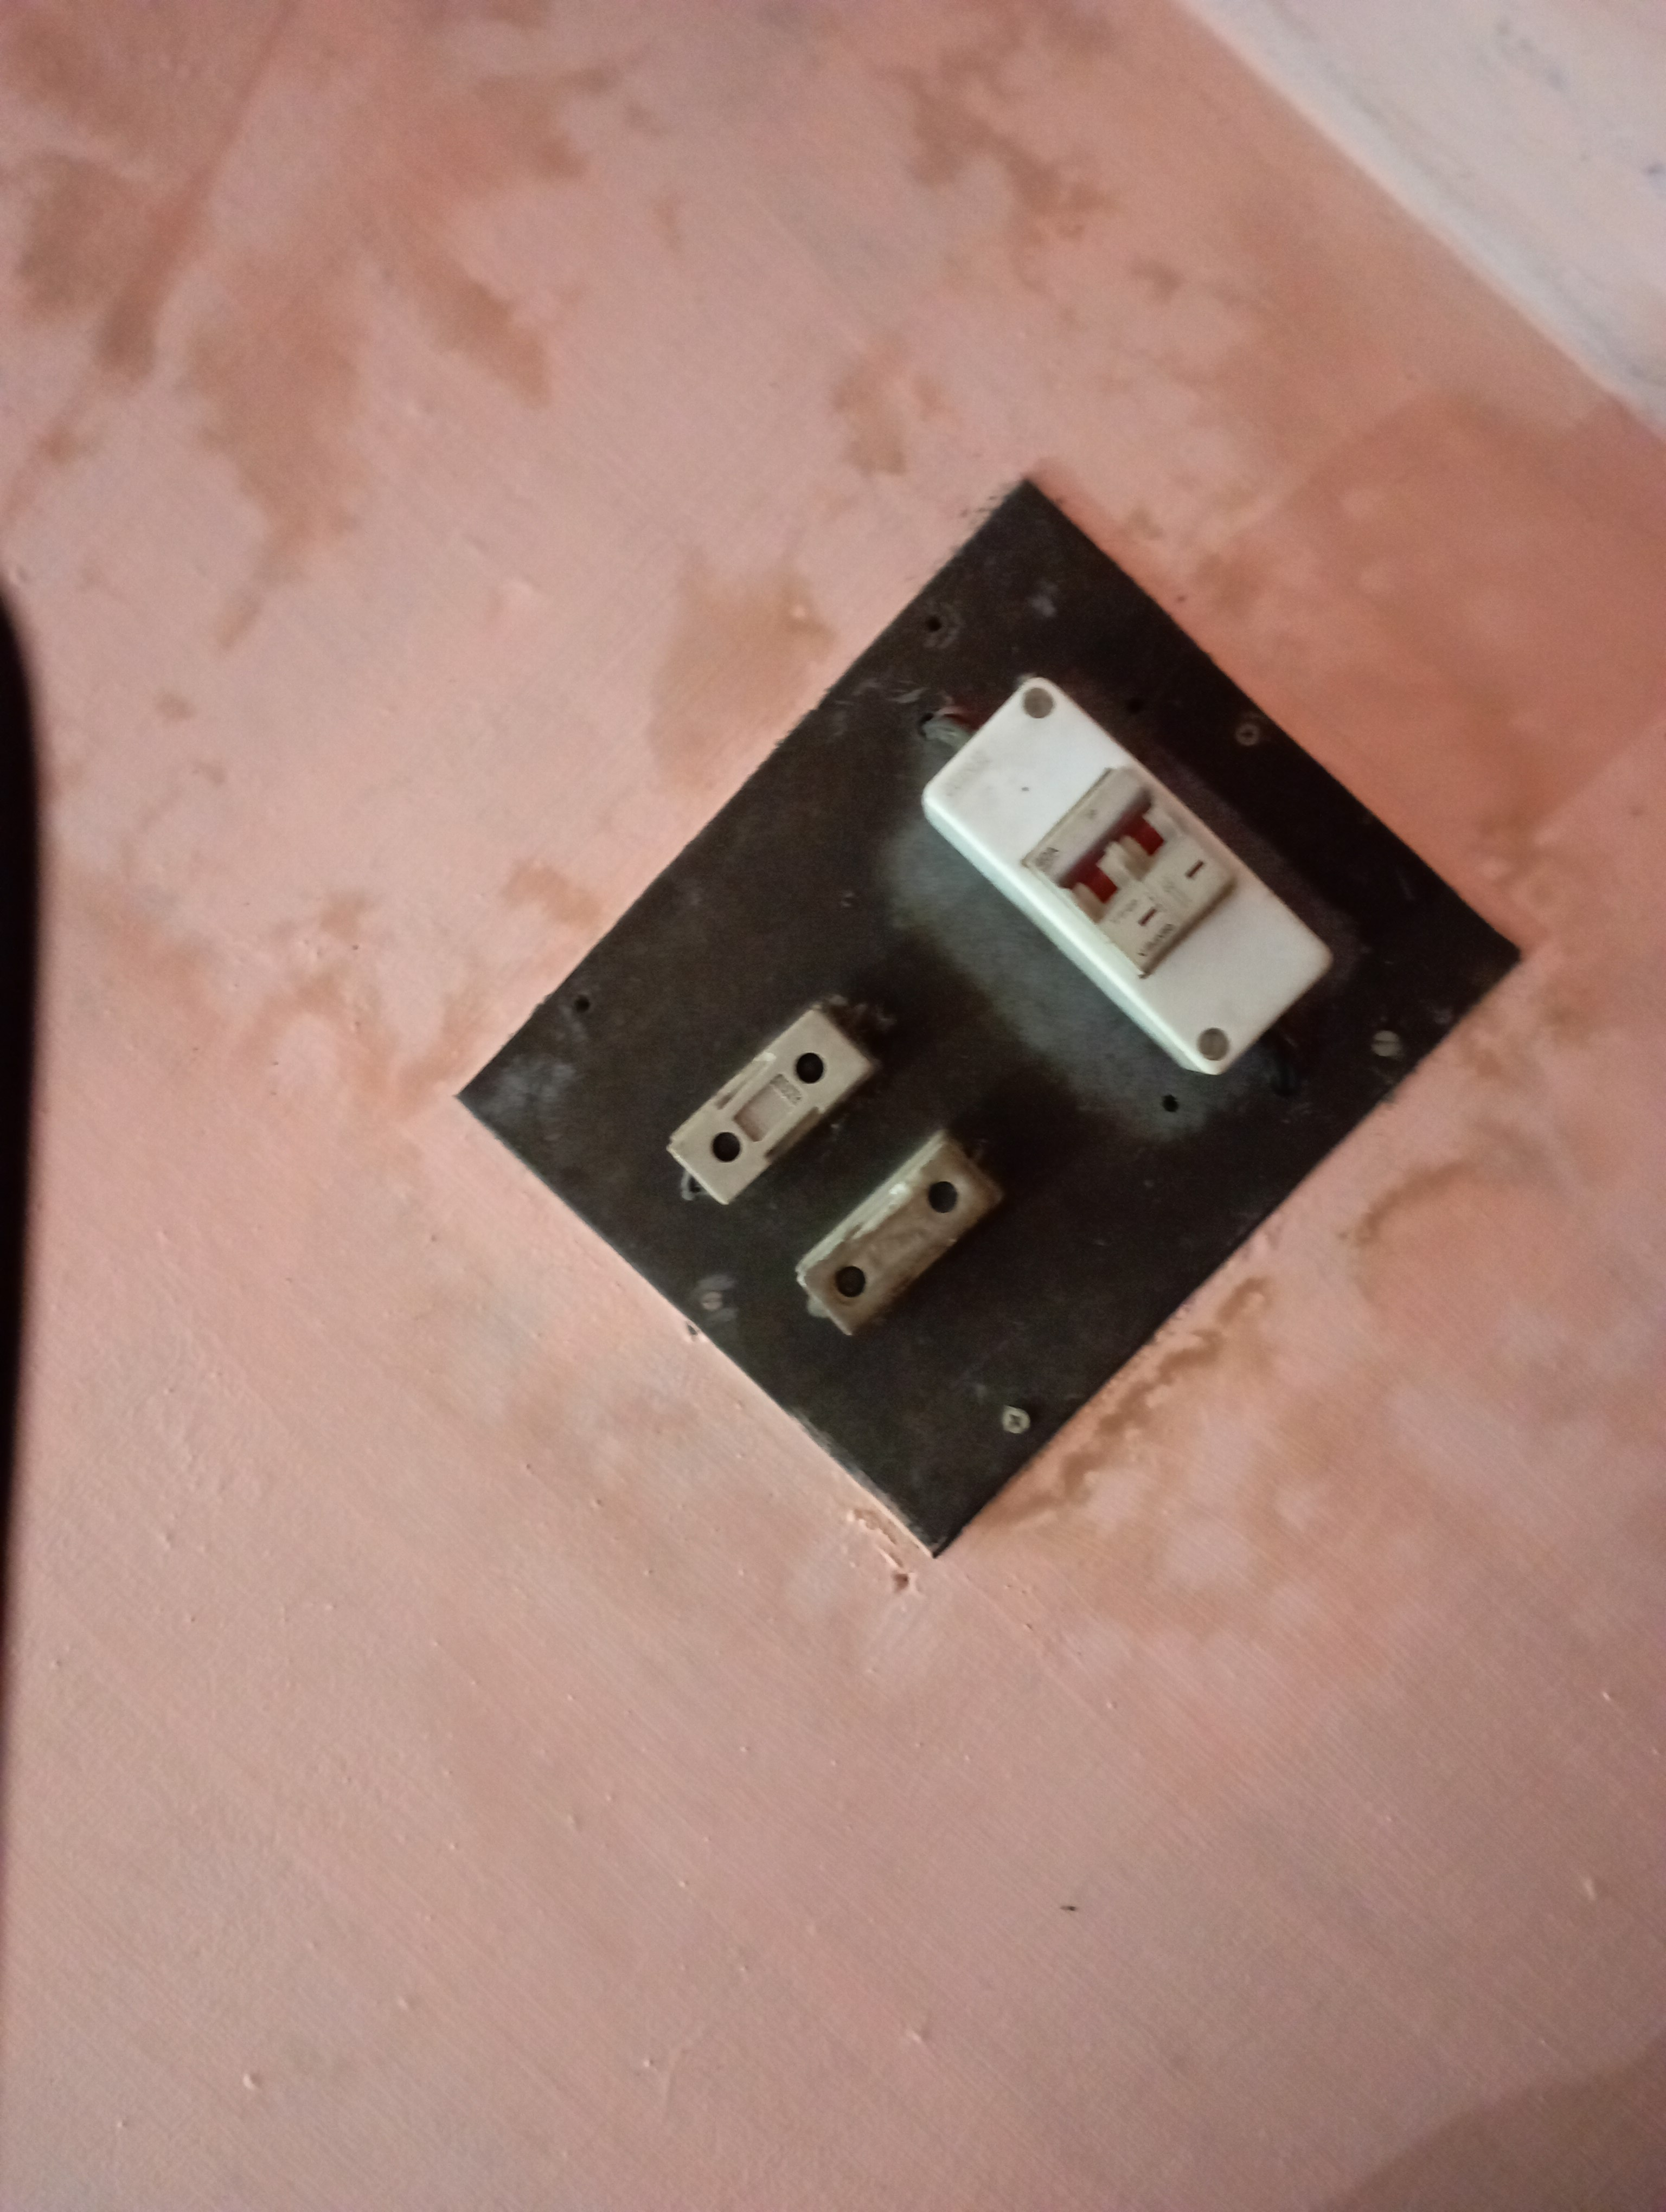ciruit_breaker: (908, 670, 1318, 1093)
fuse: (656, 997, 886, 1229), (810, 1128, 1031, 1362)
